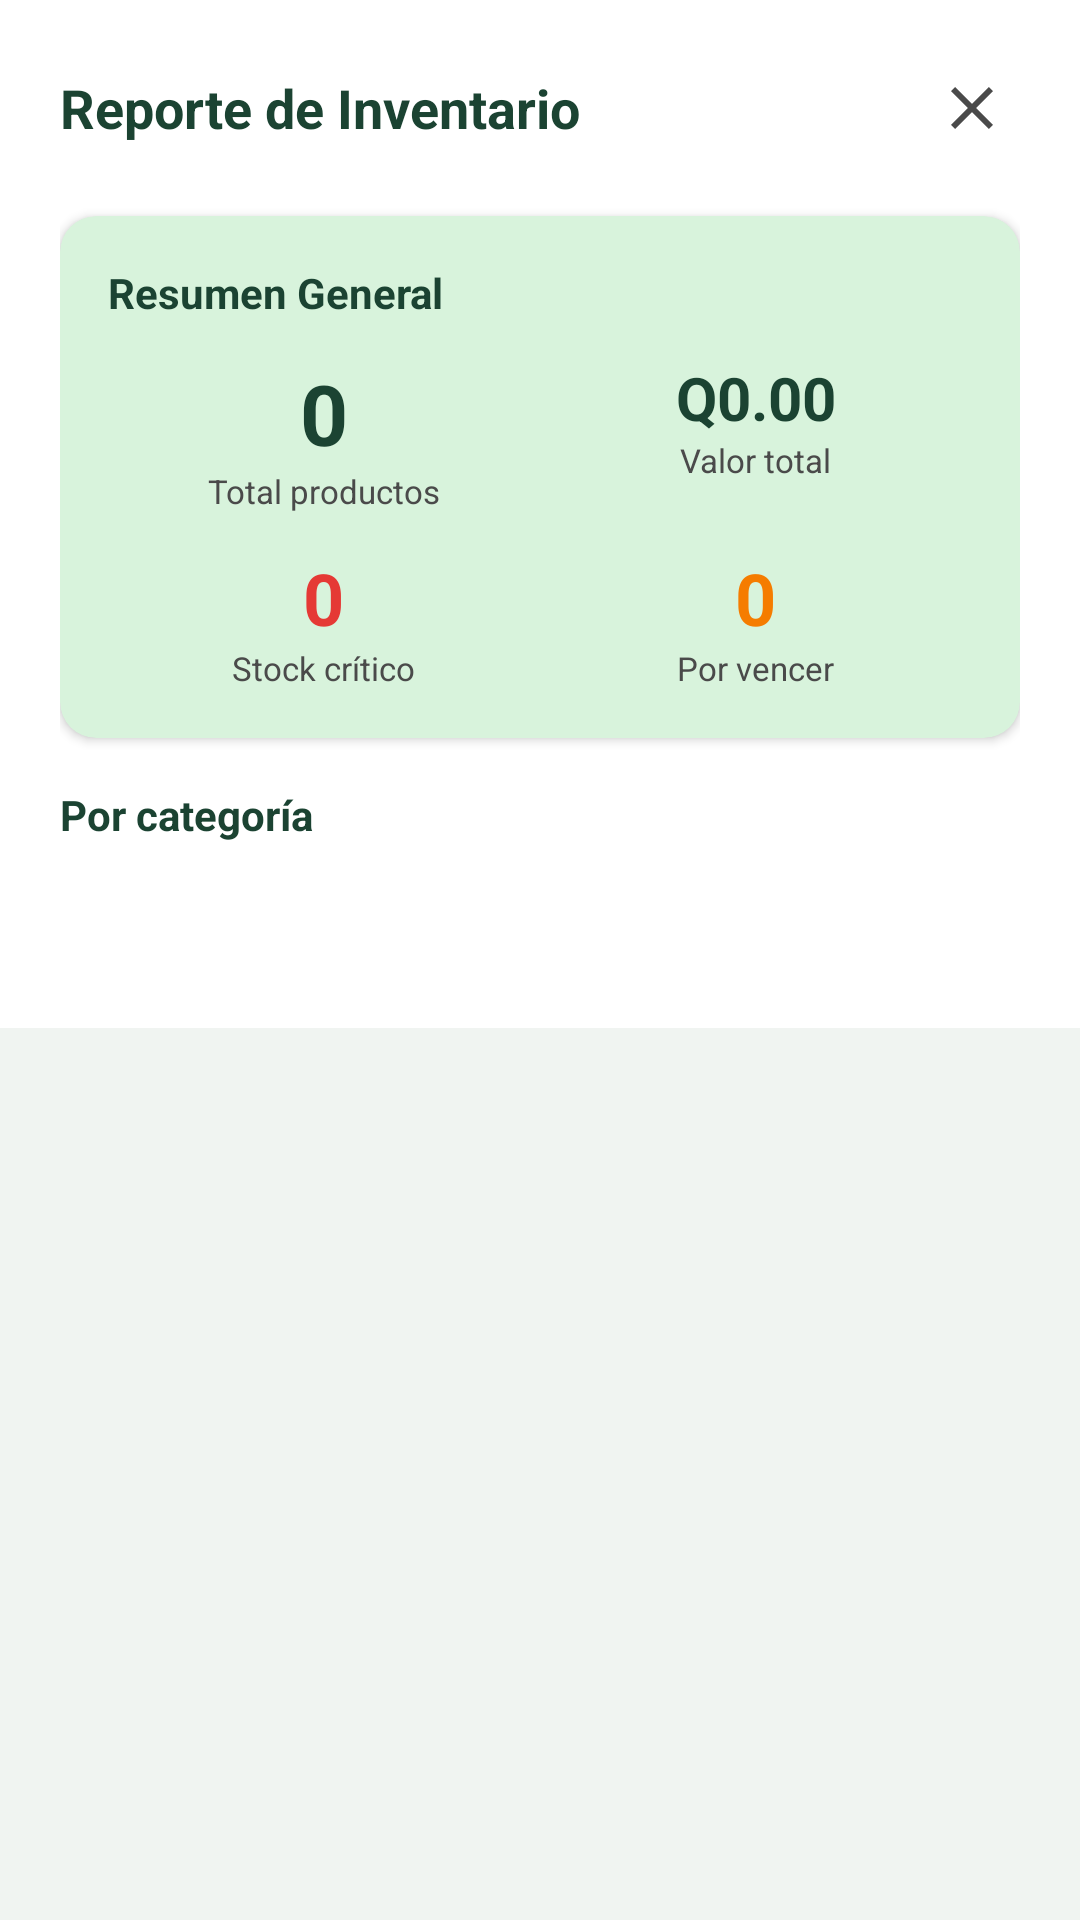

Icons on this 1080 x 1920 Android screen, each with its box as (x1, y1, x2, y2):
Cerrar: (951, 87, 993, 129)
